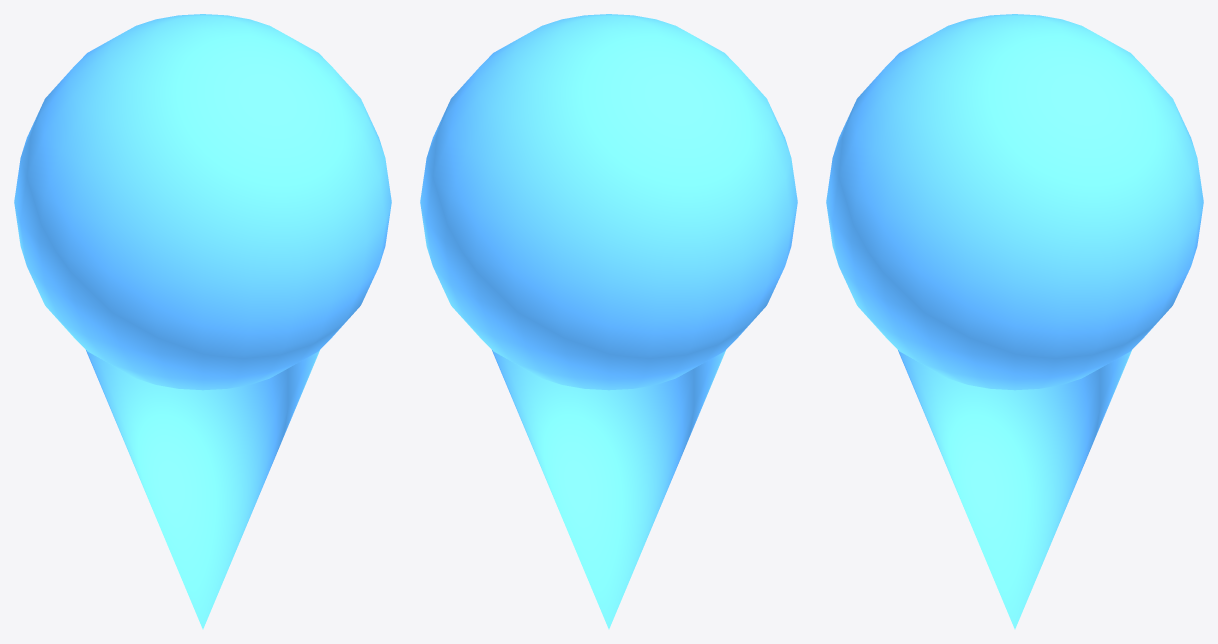
File: assembly.glb
3 views of the same model, side by side, from view 1: azimuth 30°, elevation 25°; view 2: azimuth 150°, elevation 25°; view 3: azimuth 270°, elevation 25° (orthographic).
Bounding box in the file's own units: 0.08 × 0.14 × 0.08.
